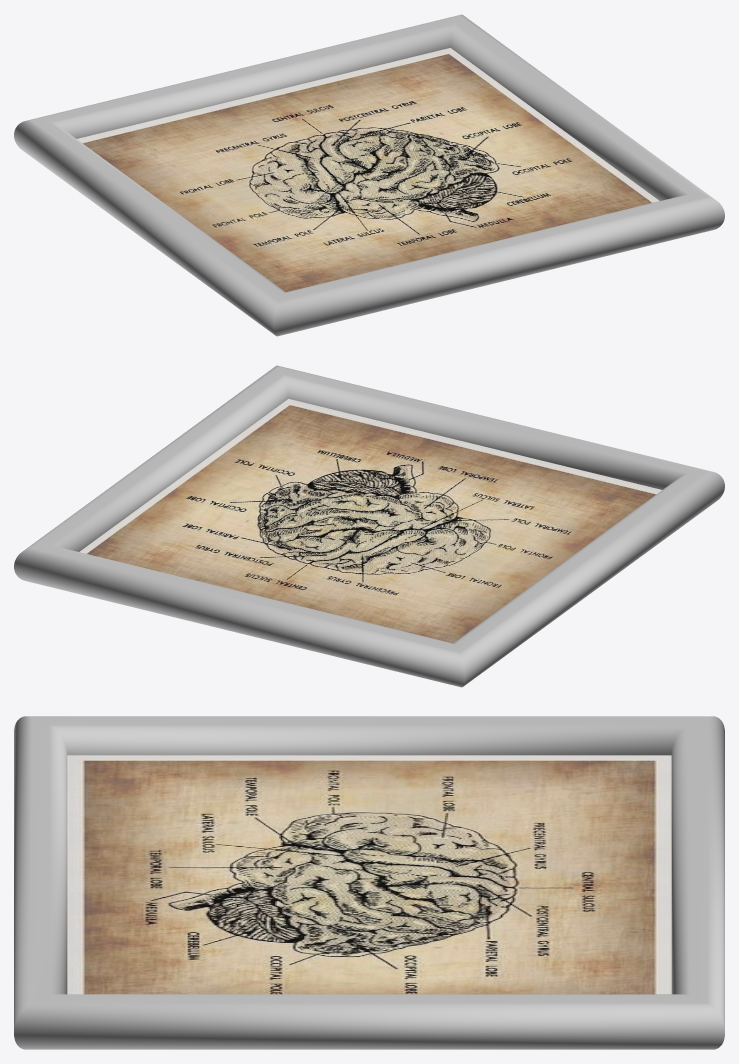
File: NeuroFrame.fbx
3 renders of one model, top to bottom at view 1: azimuth 30°, elevation 25°; view 2: azimuth 150°, elevation 25°; view 3: azimuth 270°, elevation 25°, orthographic. The views are drawn at different scales.
Visible parts, largest first — view 1: Bild, Ramen; view 2: Bild, Ramen; view 3: Bild, Ramen.
Boxes of the visible parts, box(x1,y1,x2,y2) form: Bild: box(77, 48, 659, 292); Ramen: box(14, 14, 724, 336); Bild: box(79, 399, 661, 643); Ramen: box(14, 365, 724, 687); Bild: box(67, 755, 671, 994); Ramen: box(14, 716, 724, 1049).
Size of the model in its own units: 424 by 30 by 424.
